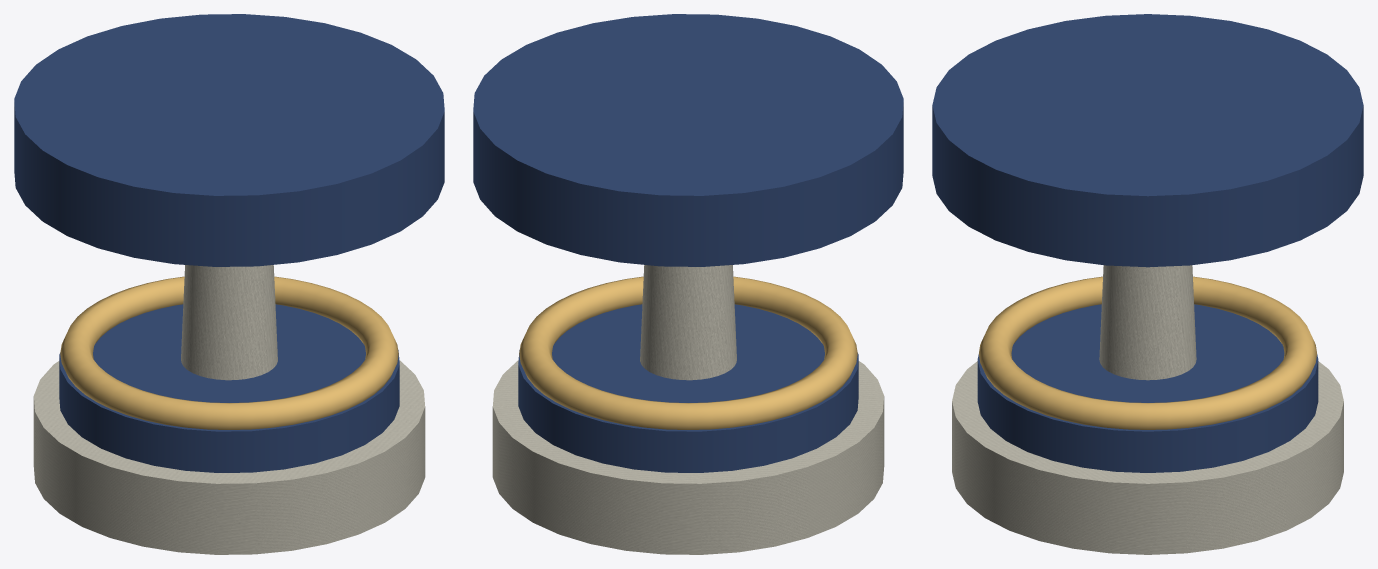
Rendered from arcane-academy-and-spell-trials-stool-6fc4e011__28297.glb.
3 views of the same model, side by side, from view 1: azimuth 30°, elevation 25°; view 2: azimuth 150°, elevation 25°; view 3: azimuth 270°, elevation 25° (orthographic).
Visible parts, largest first — view 1: stool; view 2: stool; view 3: stool.
Boxes of the visible parts, <box> form: stool: <box>14,14,444,554</box>; stool: <box>473,14,903,554</box>; stool: <box>932,14,1363,554</box>.
Size of the model in its own units: 0.66 by 0.62 by 0.66.
Materials: 3 (1 with a texture image).
